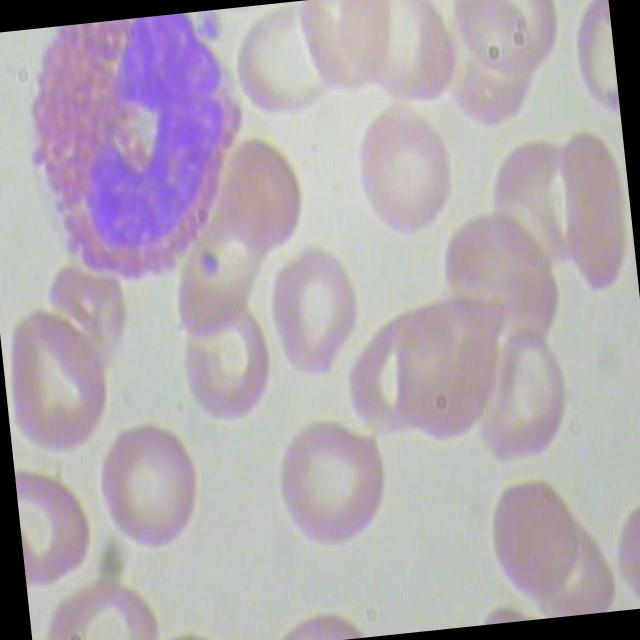RBC: (268, 413, 406, 561), (1, 294, 118, 460), (340, 96, 465, 250), (90, 412, 212, 562), (263, 238, 370, 396), (481, 464, 590, 616), (178, 287, 287, 438), (550, 121, 639, 299), (214, 132, 314, 266), (449, 0, 571, 91)
WBC: (4, 8, 262, 302)
